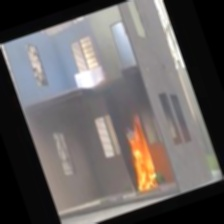fire: (115, 119, 172, 193)
